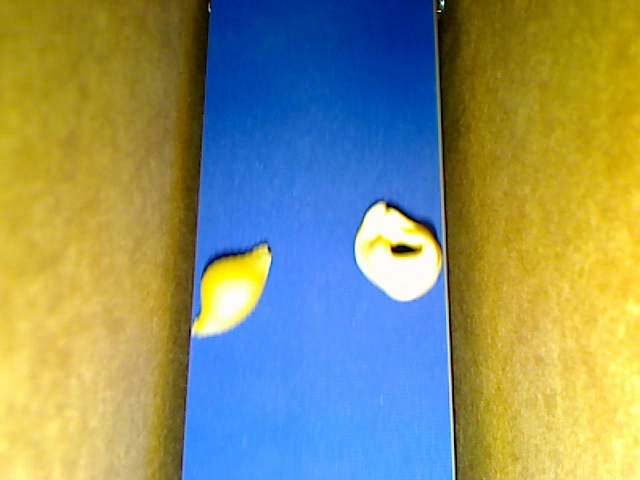shell: (190, 240, 272, 339)
tortellini: (354, 199, 444, 302)
